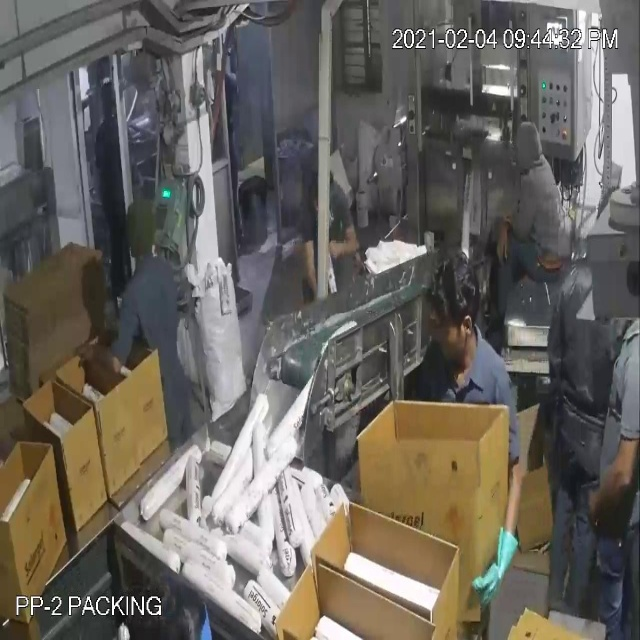Guantes: (455, 437, 531, 614)
Sin_guantes: (588, 407, 640, 540), (61, 317, 123, 387), (494, 215, 530, 272), (326, 220, 361, 271), (301, 228, 321, 312)
